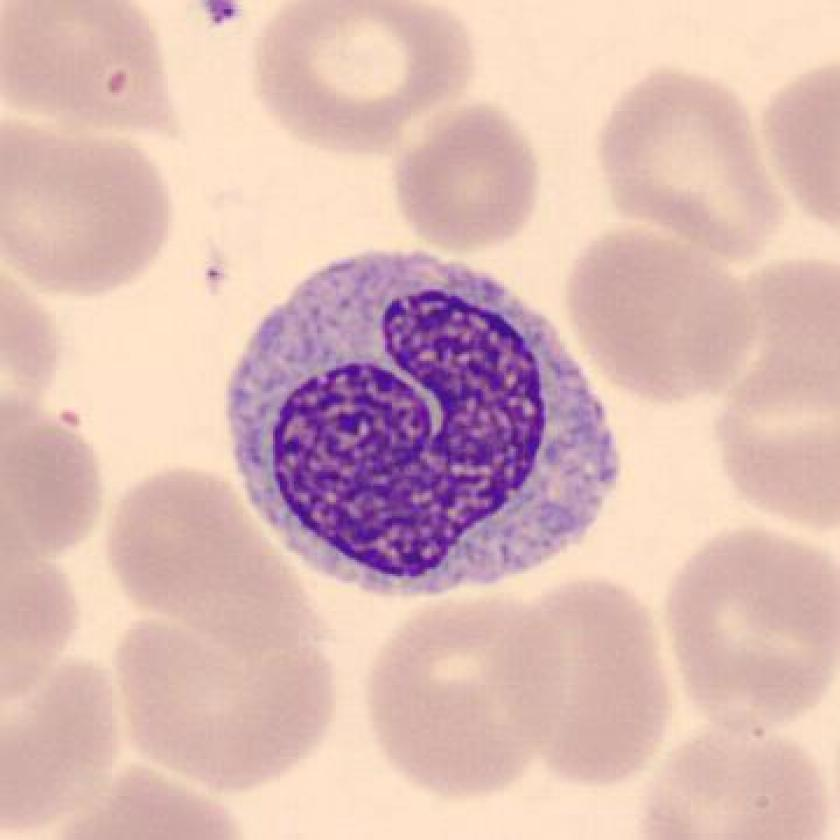monocyte: (206, 237, 636, 614)
